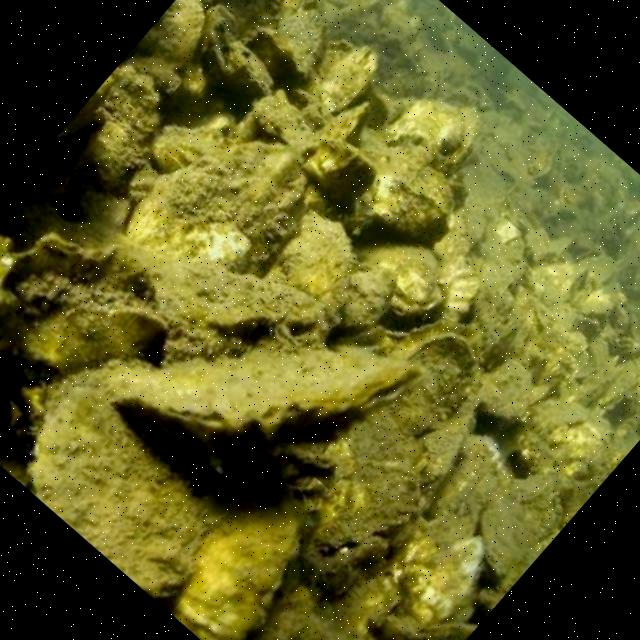Oyster-Closed: (305, 335, 477, 595), (27, 386, 220, 600), (137, 162, 283, 276), (182, 504, 302, 640), (150, 264, 322, 342), (258, 562, 402, 640), (385, 532, 489, 640), (21, 308, 168, 370), (476, 481, 564, 572), (270, 202, 360, 288), (352, 165, 453, 241), (296, 268, 406, 332), (516, 407, 602, 488), (442, 433, 508, 531), (0, 230, 124, 282), (304, 38, 392, 106), (518, 314, 592, 394), (258, 0, 334, 72), (389, 100, 473, 162), (362, 240, 448, 298), (467, 229, 539, 297), (214, 36, 282, 106), (464, 272, 518, 358), (469, 352, 531, 423), (426, 252, 479, 324), (536, 260, 608, 312), (586, 360, 640, 424), (156, 120, 210, 178), (302, 136, 358, 188), (524, 226, 582, 274), (320, 98, 378, 144), (566, 361, 612, 409), (580, 280, 626, 322), (578, 334, 610, 366)
Oyster-Open: (110, 348, 424, 428)
